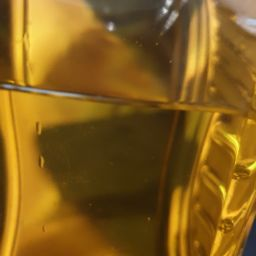Oil: (3, 3, 250, 255), (25, 50, 192, 192)
